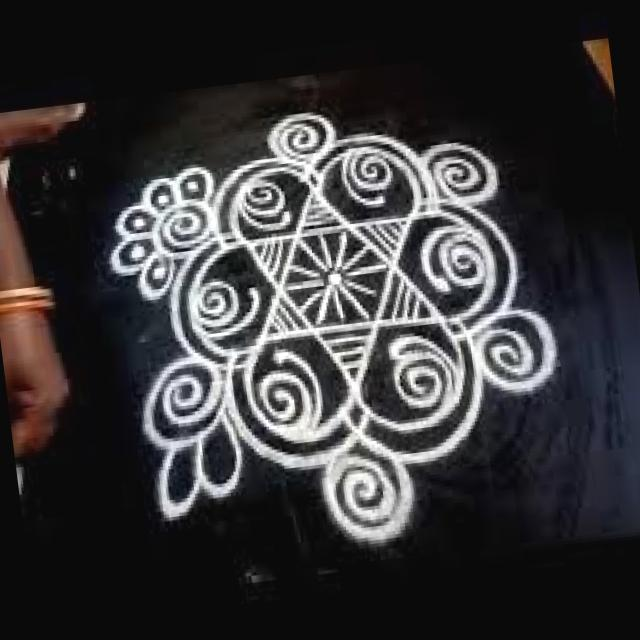rangoli: (102, 70, 590, 572)
